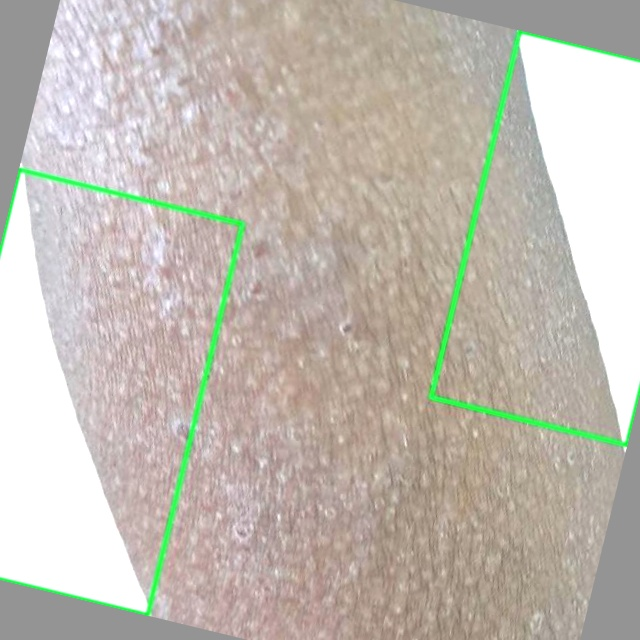Contact Dermatitis: (0, 169, 242, 614), (431, 31, 639, 444)
